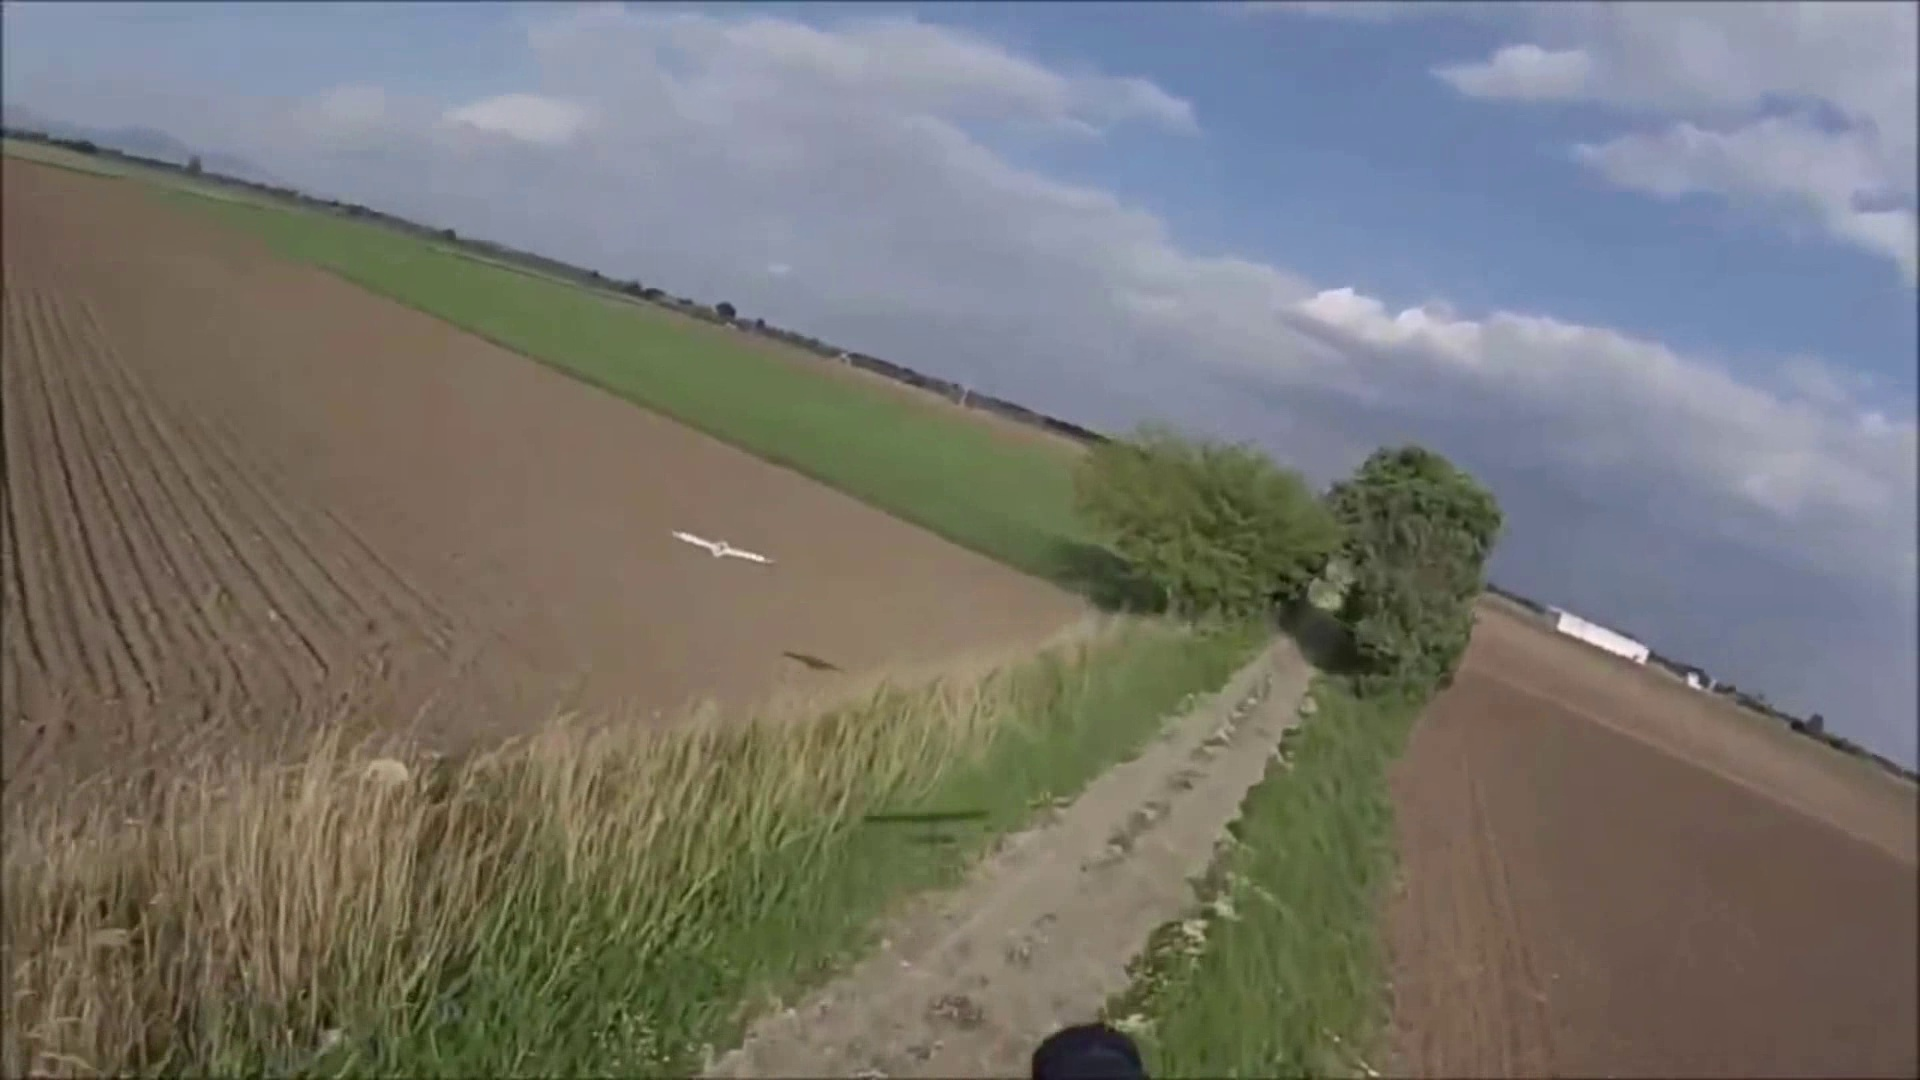airplane: (672, 528, 772, 564)
